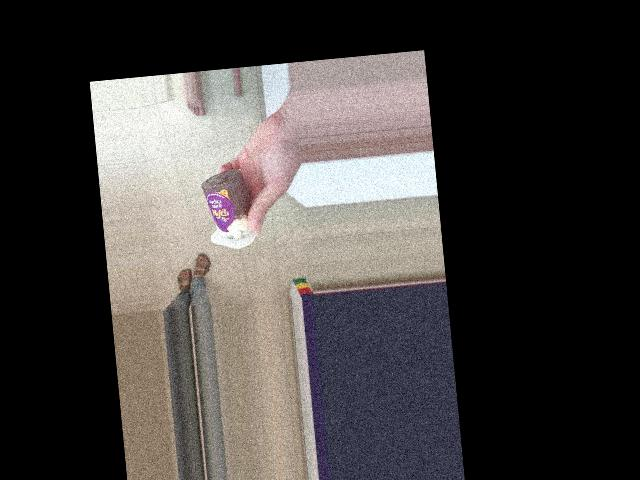milky: (203, 164, 262, 247)
